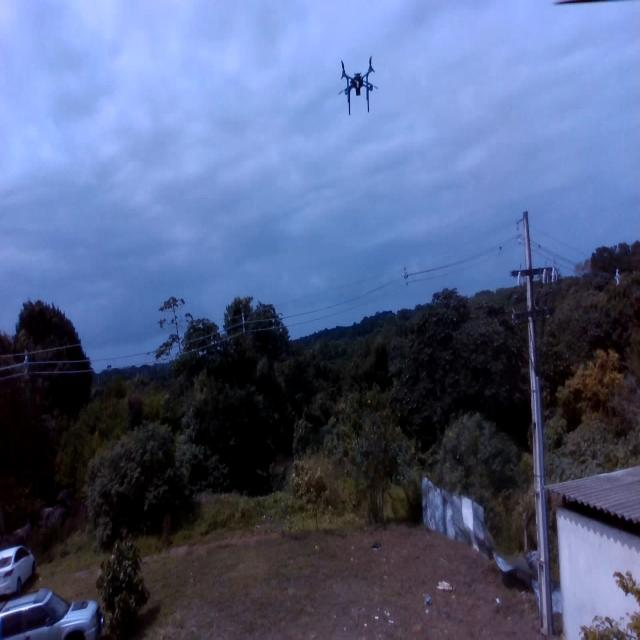-uav-: (326, 49, 398, 127)
